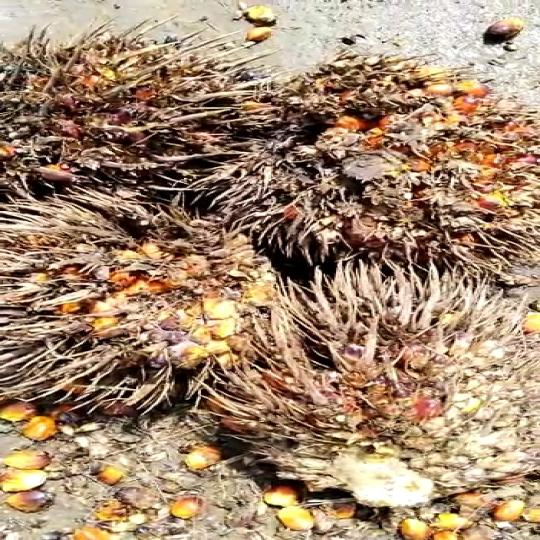terlalu masak: (172, 268, 540, 506), (194, 59, 540, 250), (0, 208, 275, 383)
